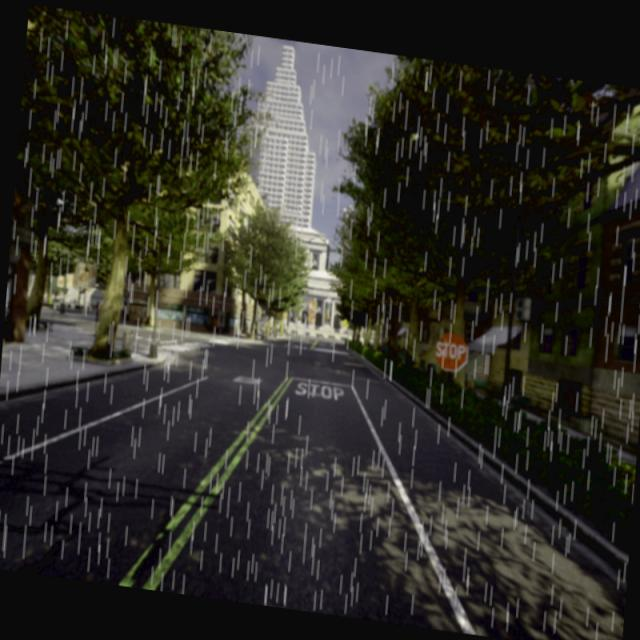stop sign: (432, 330, 470, 373)
